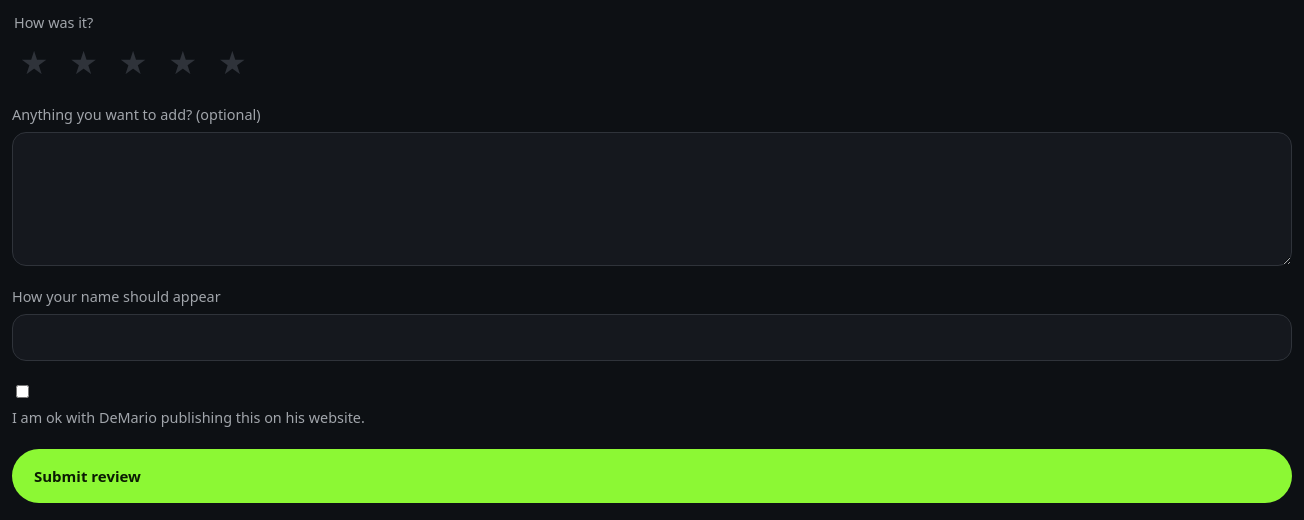
ReviewForm thank-you › tells a student from the emailed link that the review is on the site
The width and height of the screenshot is (1304, 520).
Step 1. Click the radio button named "4 stars" → (183, 62), box [168,40,197,83]
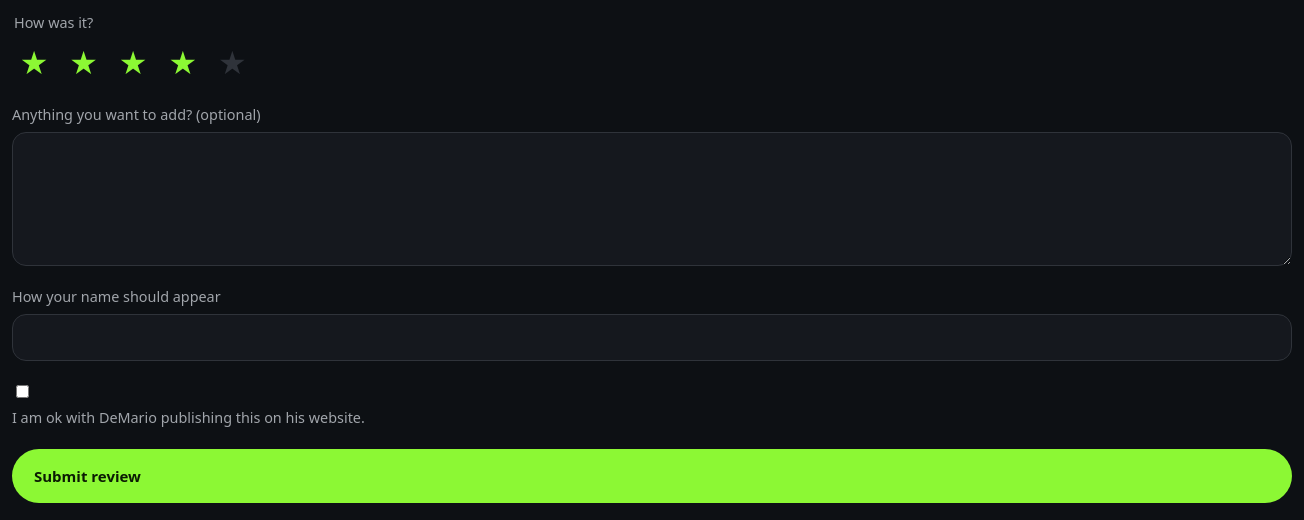
Step 2. Type "Clear plan, real progress." into the text box labelled "Anything you want to add? (optional)" → (652, 199), box [12,132,1292,266]
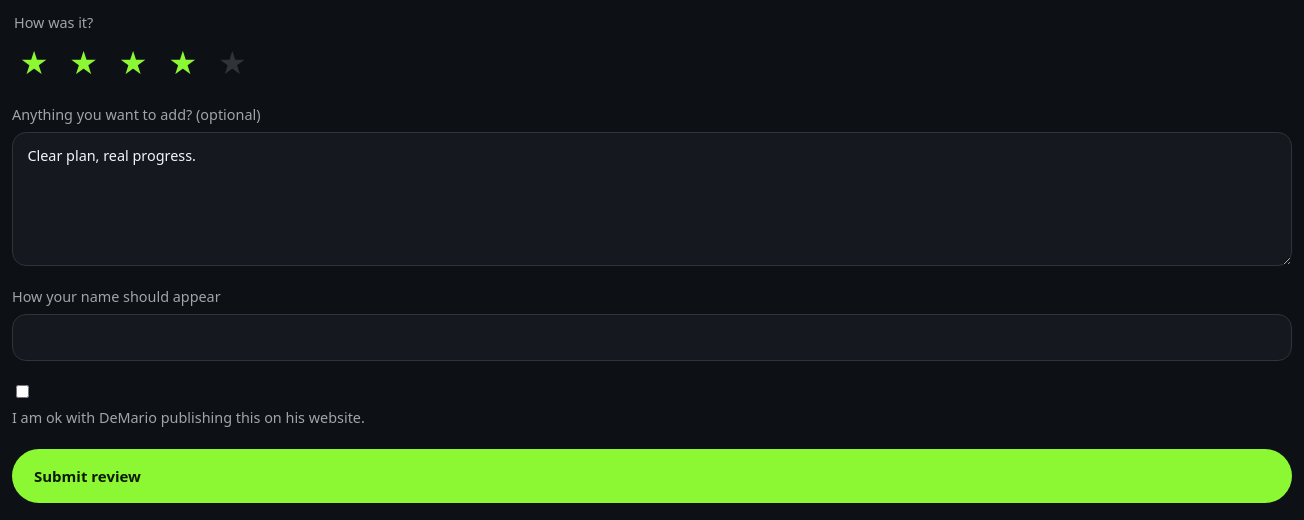
Step 3. Type "Sam P." into the field labelled "How your name should appear" → (652, 338), box [12,314,1292,362]
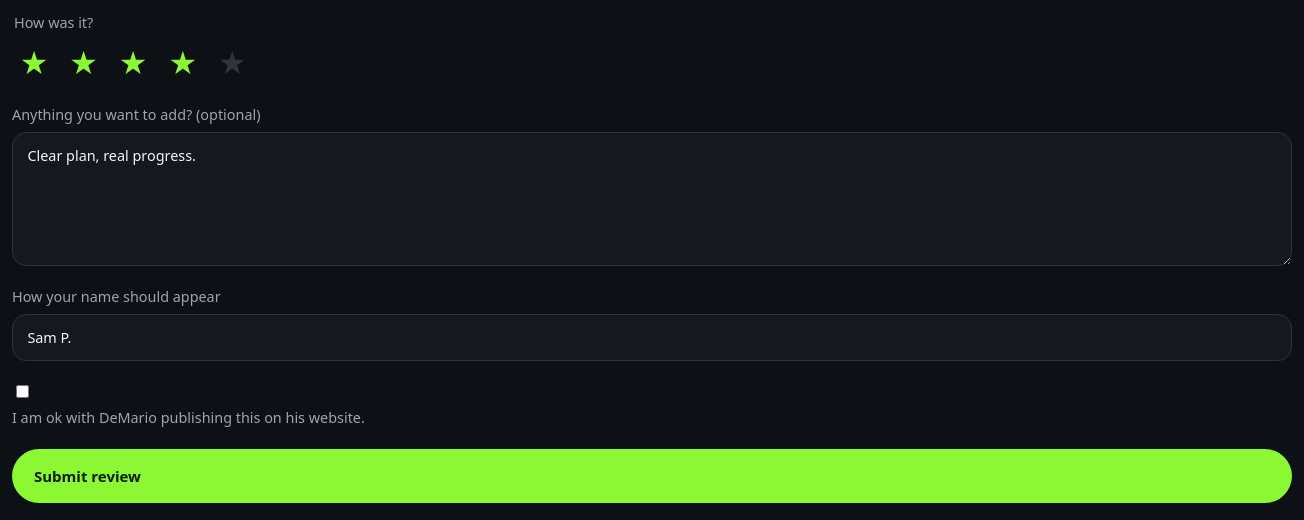
Step 4. Click the checkbox → (22, 391), box [16,385,29,398]
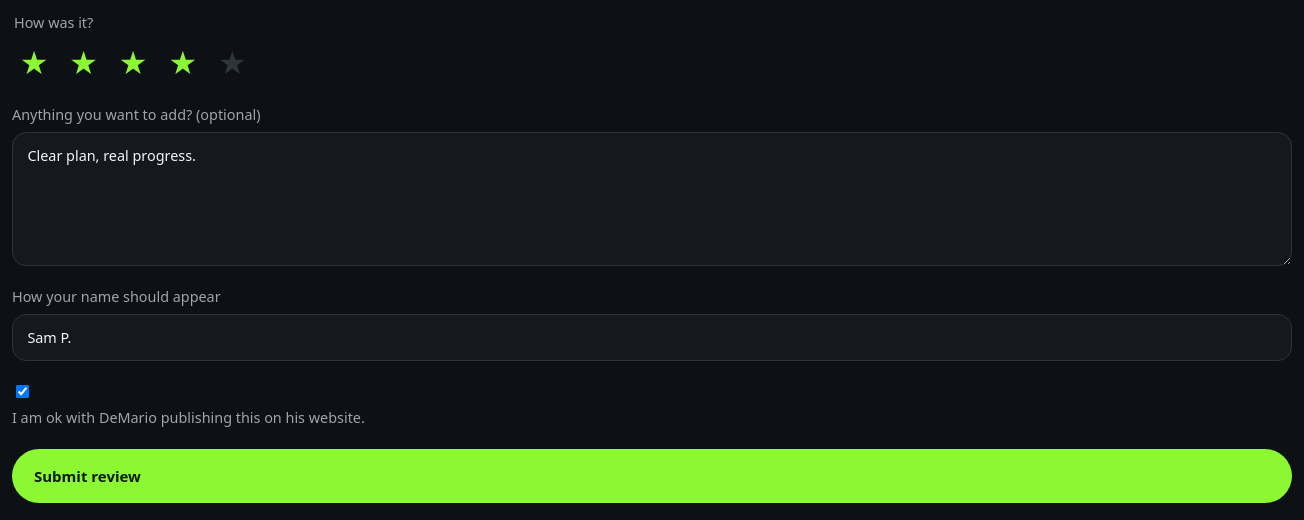
Step 5. Submit the form named "submit review"
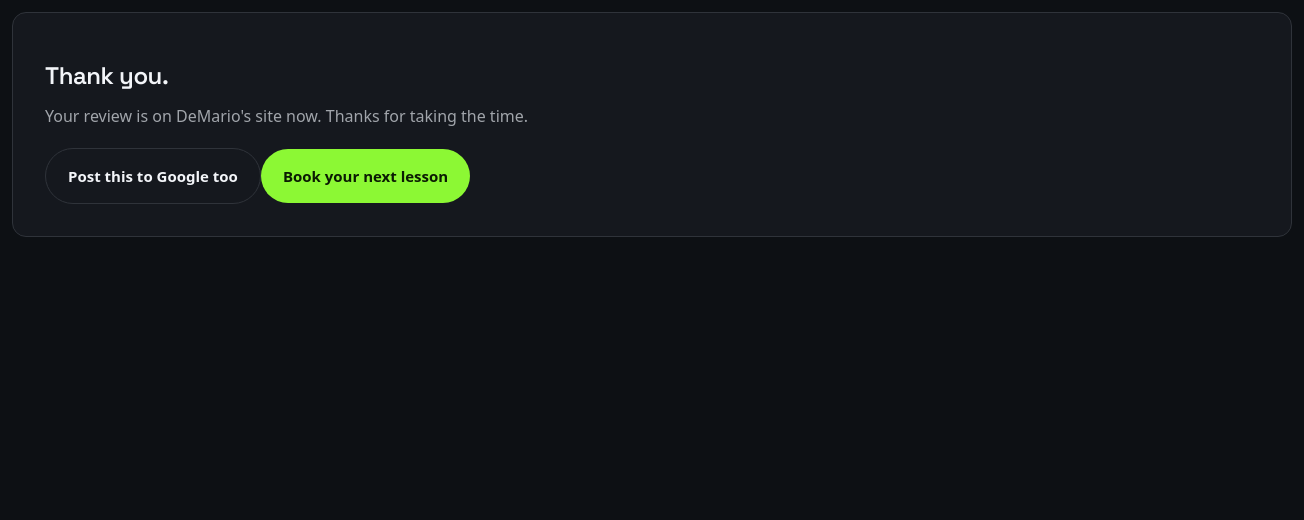
Check: the text "on DeMario's site now" is shown, box [45,105,528,127]
